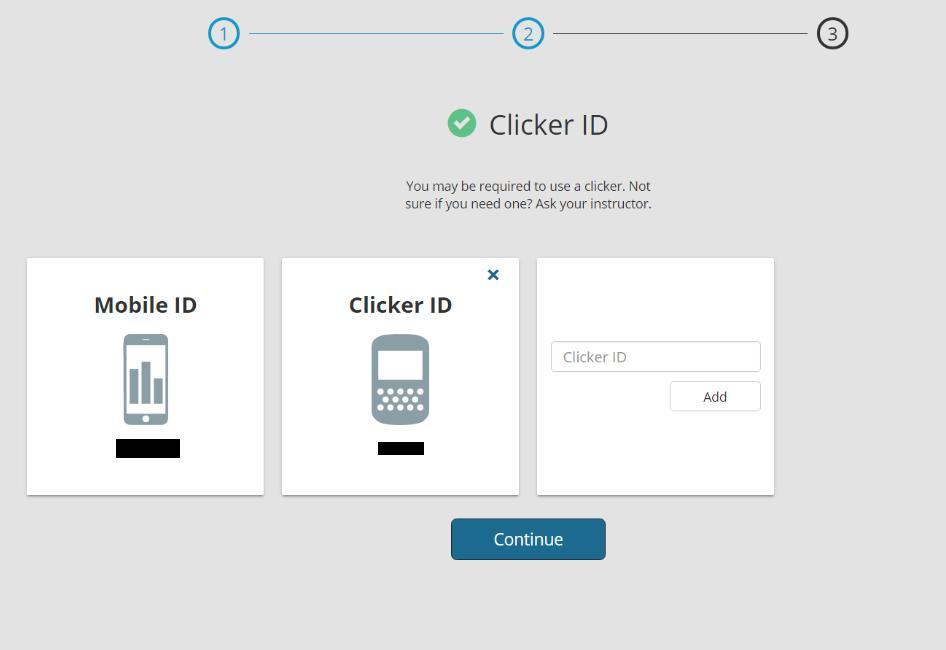button: (449, 519, 610, 561), (672, 383, 762, 412)
input: (553, 340, 763, 372)
